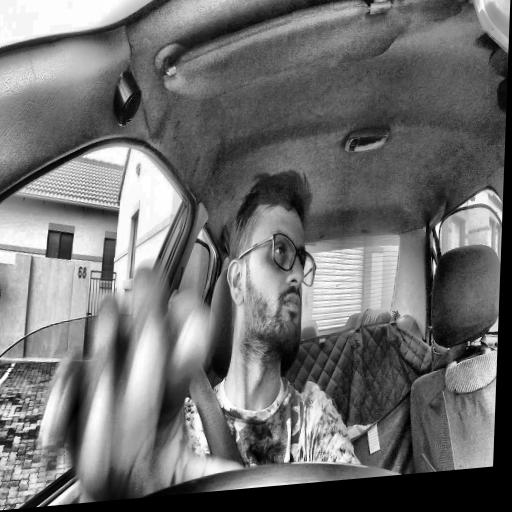awake: (224, 167, 321, 362)
